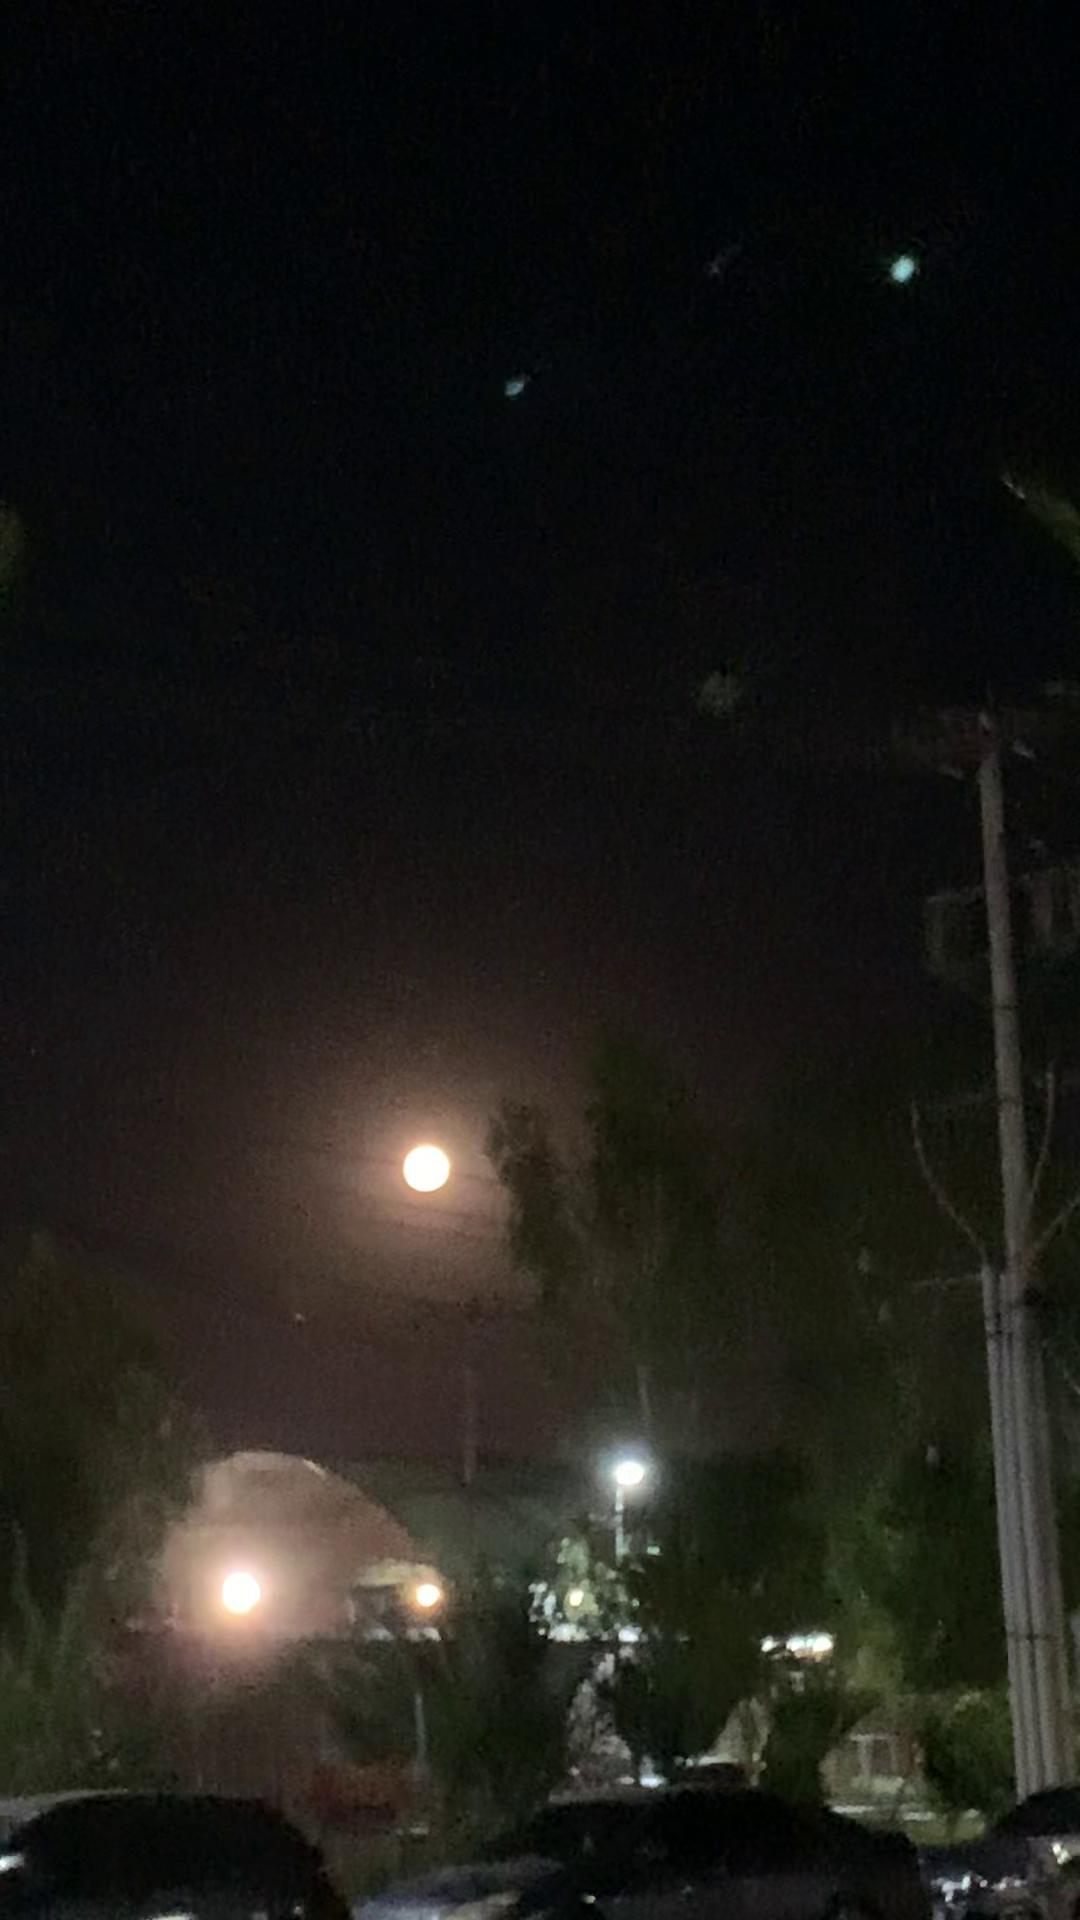moon: (378, 1116, 468, 1191)
